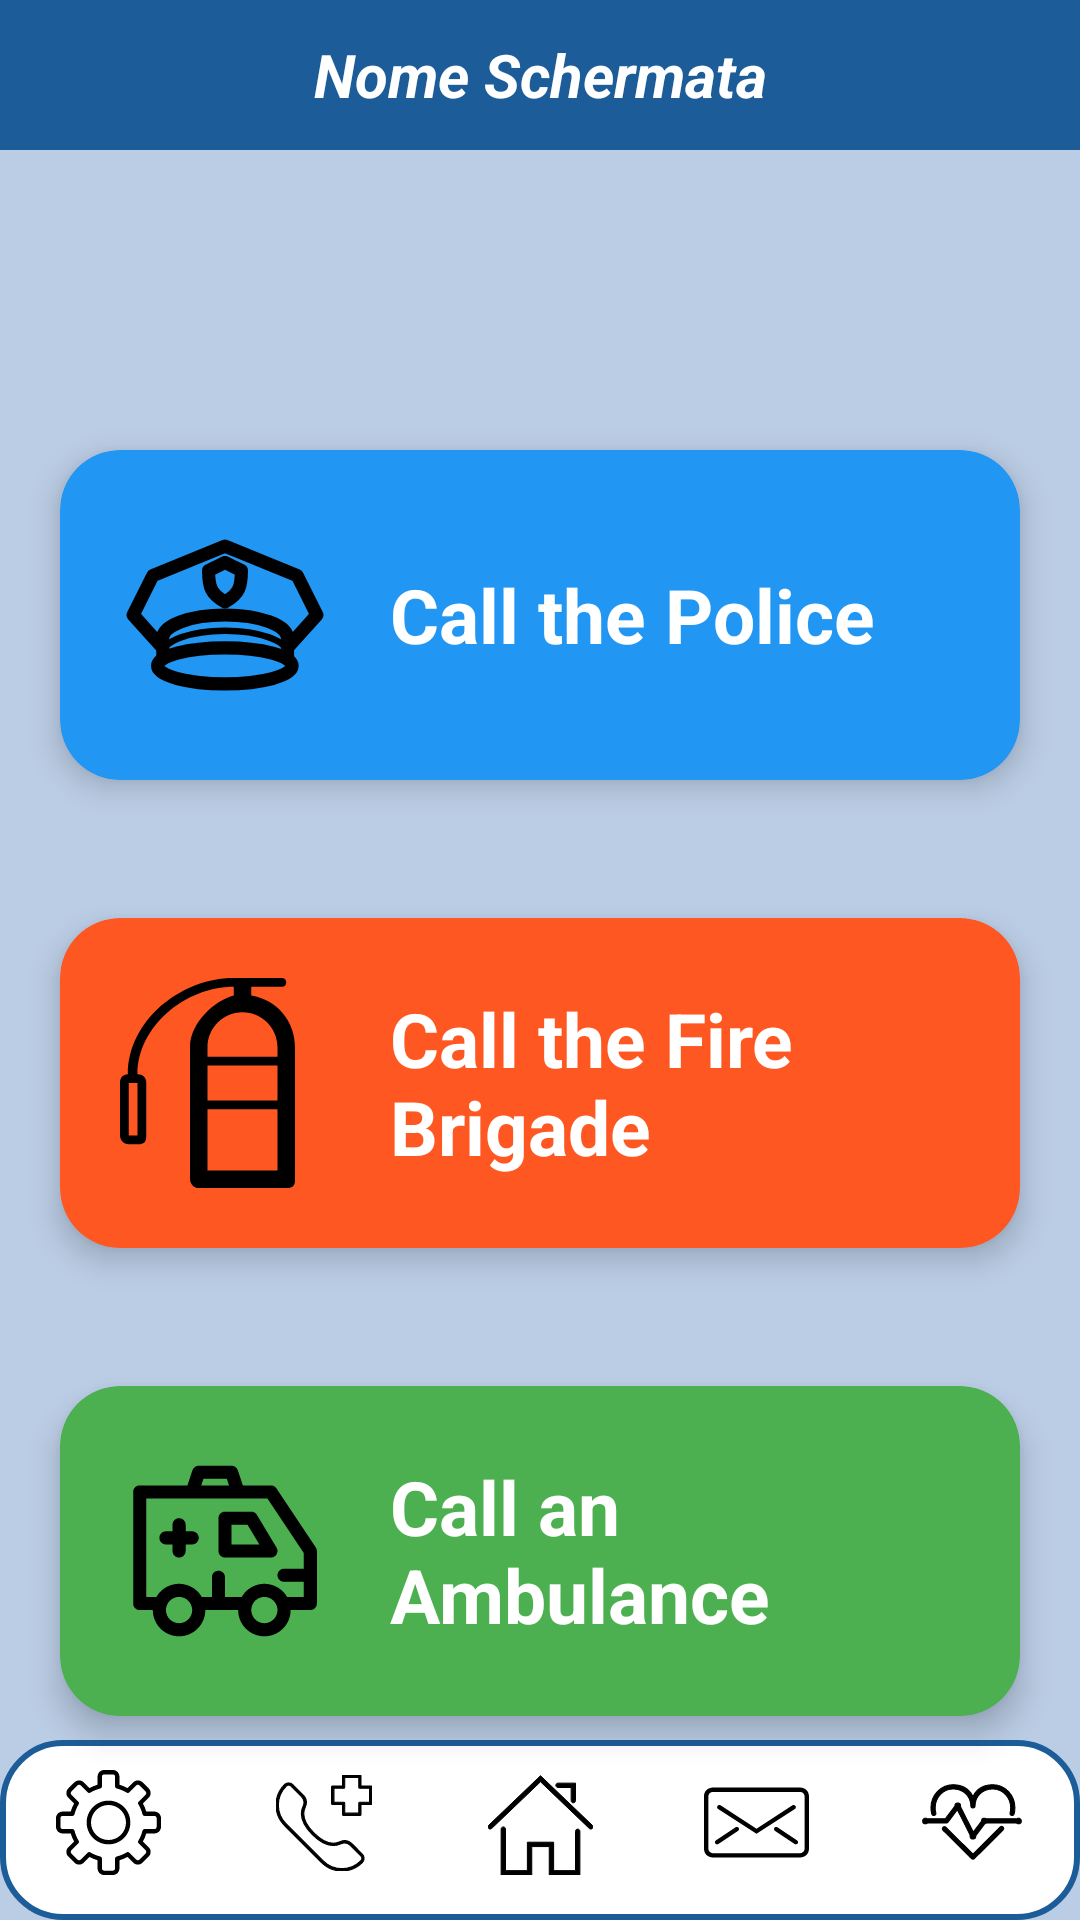

Icon bounding boxes for this 1080px x 1920px phone screenshot, format [left=x1, top=y1, right=x2, bottom=y2]:
home: [left=488, top=1775, right=593, bottom=1875]
Icona Ambulanza: [left=133, top=1465, right=317, bottom=1637]
Icona Polizia: [left=126, top=539, right=324, bottom=691]
Icona Vigili del Fuoco: [left=120, top=978, right=295, bottom=1188]
message: [left=704, top=1787, right=809, bottom=1858]
sos: [left=276, top=1775, right=372, bottom=1871]
